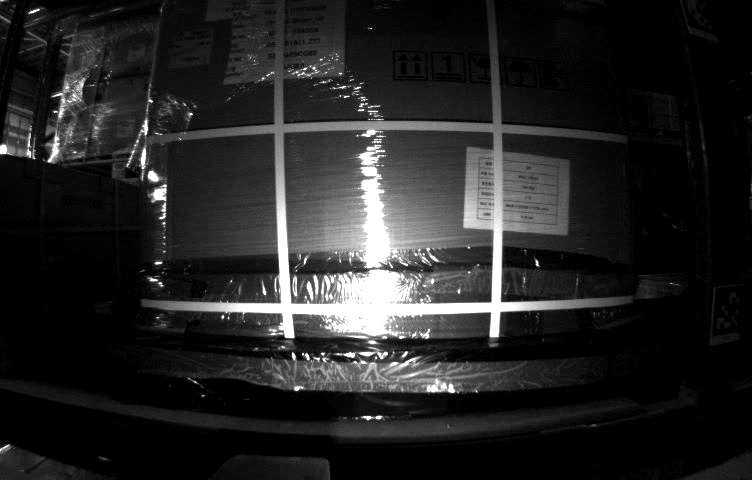True Barcode: (170, 29, 212, 63)
